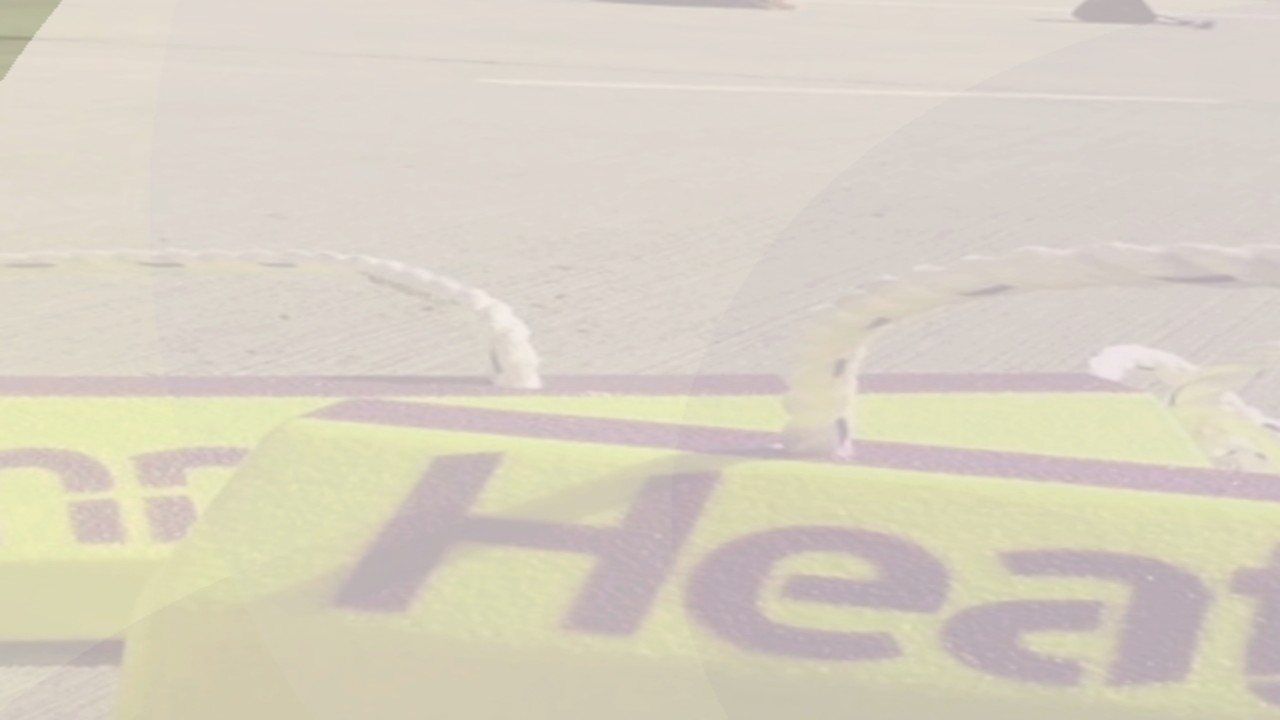chock: (0, 230, 1277, 720), (16, 369, 1280, 720)
